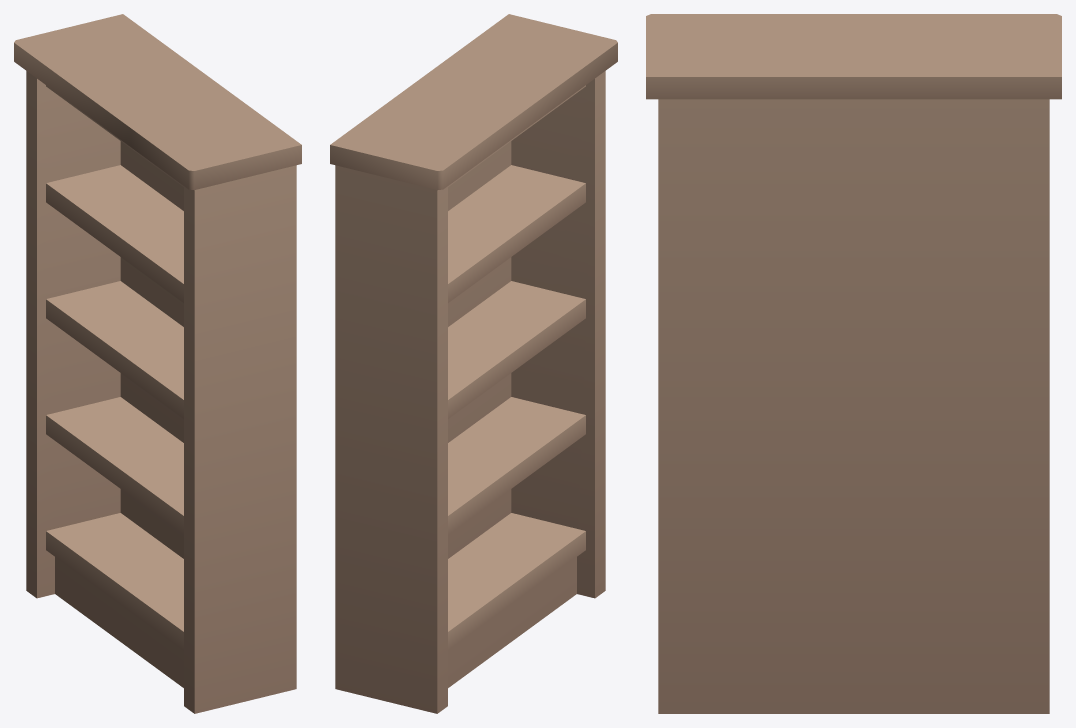
Rendered from cabinet-bookcase-classic.glb.
The picture shows the model from 3 angles, left to right: view 1: azimuth 30°, elevation 25°; view 2: azimuth 150°, elevation 25°; view 3: azimuth 270°, elevation 25°; orthographic projection. The views are drawn at different scales.
Visible parts, largest first — view 1: cabinet-bookcase-classic; view 2: cabinet-bookcase-classic; view 3: cabinet-bookcase-classic.
Part boxes in pixels (x1=…): cabinet-bookcase-classic: x1=14, y1=14, x2=301, y2=713; cabinet-bookcase-classic: x1=330, y1=14, x2=617, y2=713; cabinet-bookcase-classic: x1=646, y1=14, x2=1061, y2=713.
Size of the model in its own units: 0.305 by 1.44 by 0.85.
